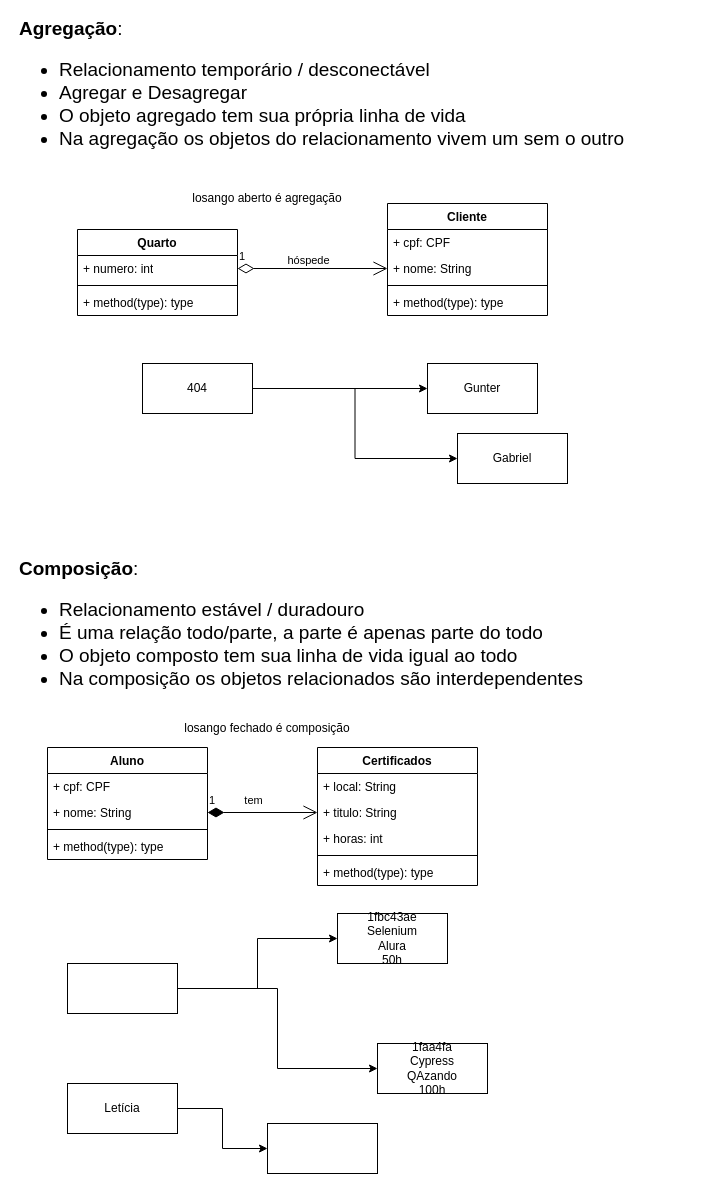
Image size: 704x1194. Some labels were removed from this diagram. Here are the shapes that lost their labels. From the top down, the centre of each, then its label:
(x=122, y=988): Adriana
(x=322, y=1148): 5799231a Selenium Alura 50h
